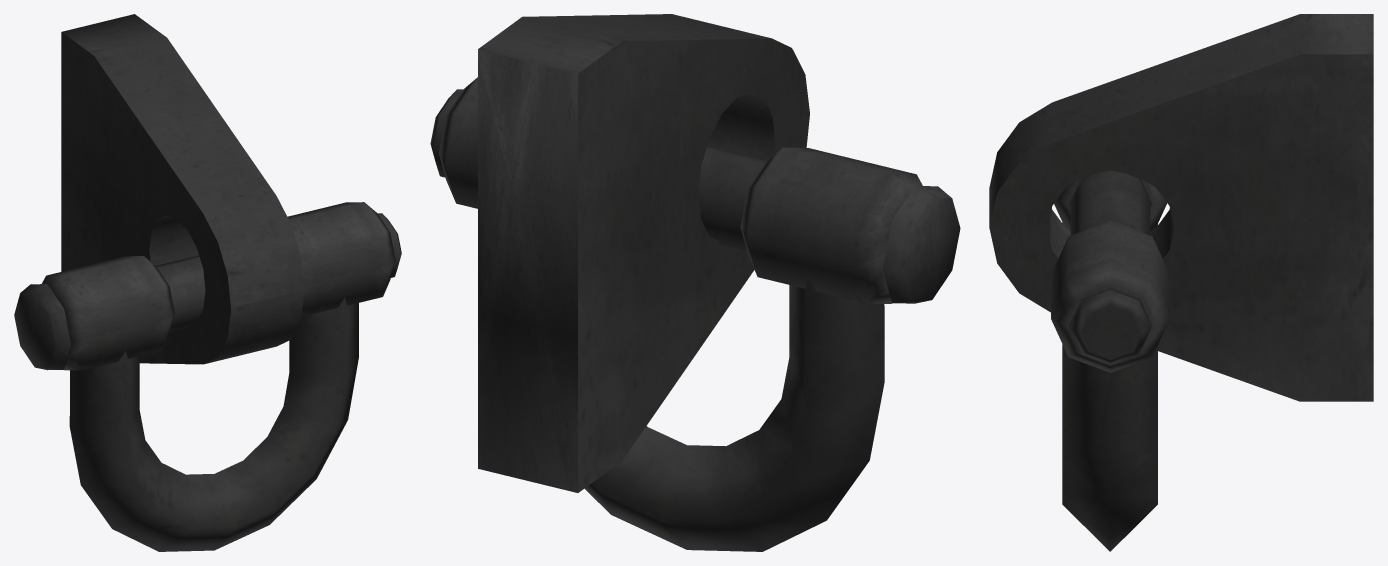
The model's file is p6_blackout_deck_iloop_02_lod1.glb.
3 views of the same model, side by side, from view 1: azimuth 30°, elevation 25°; view 2: azimuth 150°, elevation 25°; view 3: azimuth 270°, elevation 25° (orthographic). The views are drawn at different scales.
Parts seen in each view (by area): view 1: surf0; view 2: surf0; view 3: surf0.
Part boxes in pixels (<box>): surf0: <box>14,14,401,551</box>; surf0: <box>430,14,960,551</box>; surf0: <box>989,14,1373,551</box>.
Size of the model in its own units: 19.61 by 23.07 by 16.04.
